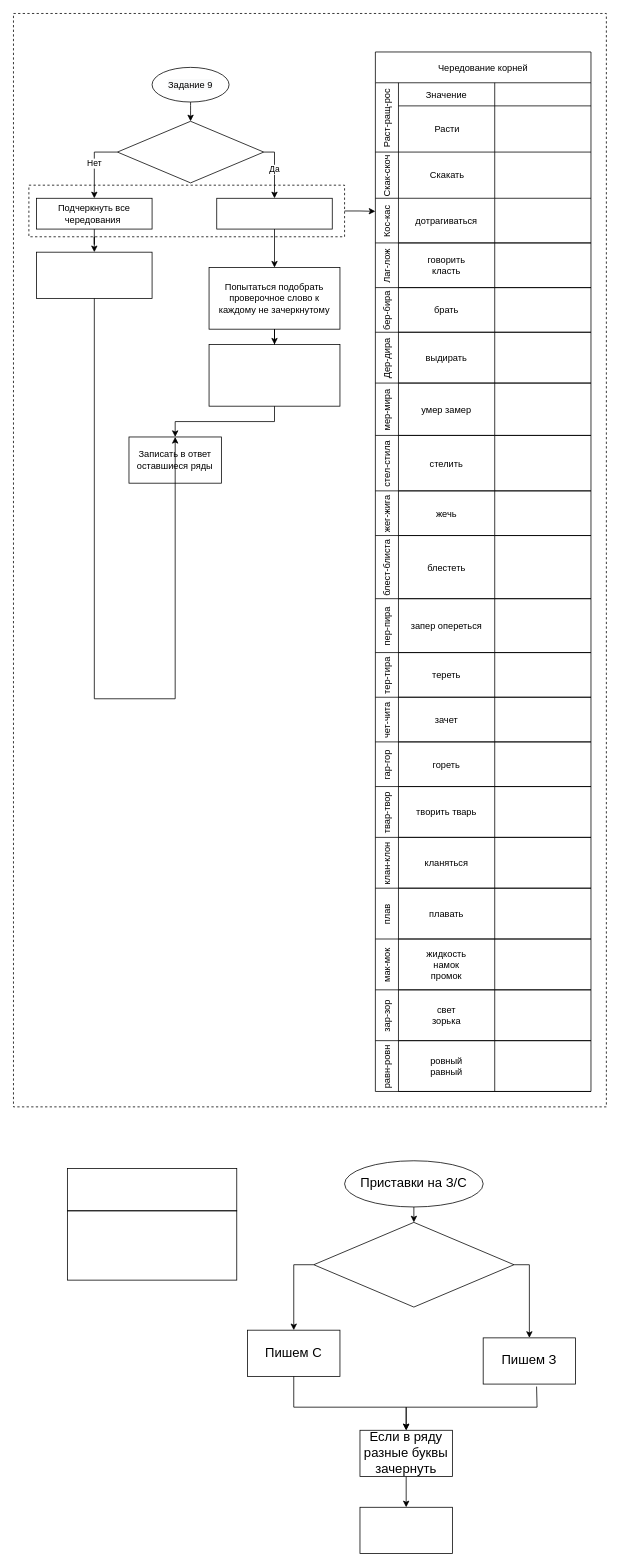
Image size: 620x1567. Some labels were removed from this diagram. The shapes that lost their labels are listed below. From the top down, each one's centre as x and y in pixels, then its label:
(190,152): Если задание на ударение
(274,213): Зачеркнуть все ряды с чередованием
(94,274): Зачеркнуть ряды в которых не все слова подчёркнуты
(274,375): Если слово не подходит под условия задания зачеркнуть ряд
(152,1189): Приставки с одним вариантом написания
(152,1245): от, над, под, об, а, пред, за, на, по, в, у, во, до, вы, с
(413,1264): Первая буква корня звонкая?
(405,1530): Записать не зачернутые ряды
